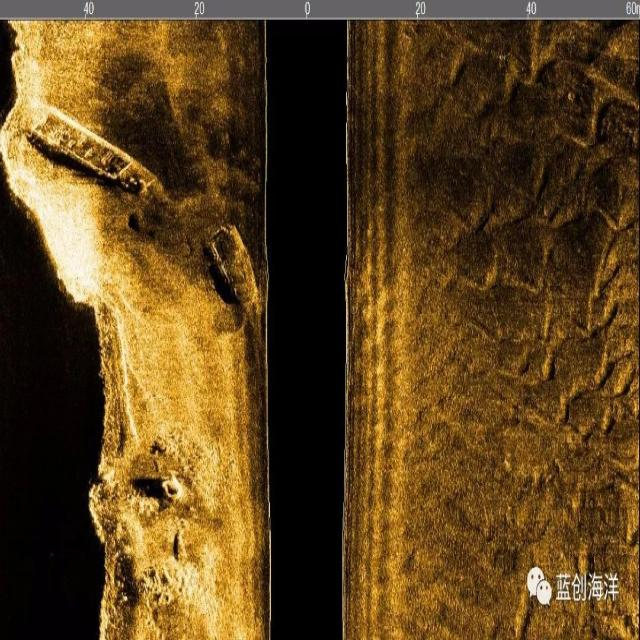ship: (28, 94, 262, 329)
